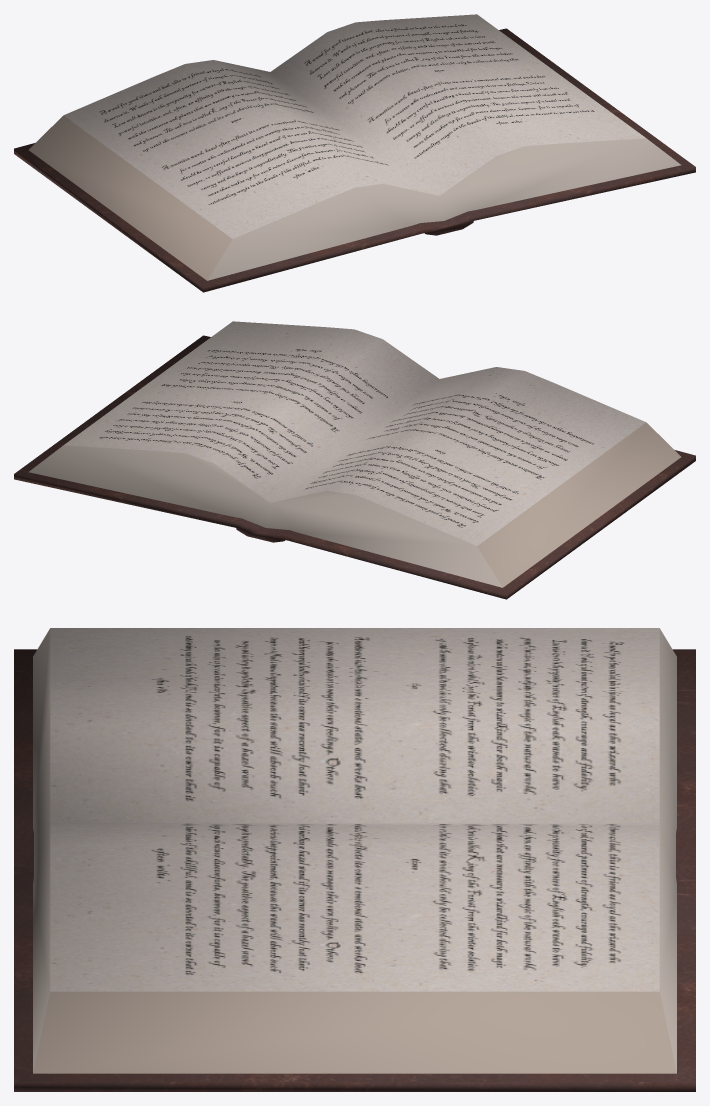
The model's file is openBook.glb.
3 views of the same model, one above another, from view 1: azimuth 30°, elevation 25°; view 2: azimuth 150°, elevation 25°; view 3: azimuth 270°, elevation 25° (orthographic). The views are drawn at different scales.
Visible parts, largest first — view 1: OpenBook; view 2: OpenBook; view 3: OpenBook.
Part boxes in pixels (box(x1,y1,x2,y2)): OpenBook: box(14, 14, 695, 292); OpenBook: box(14, 321, 695, 599); OpenBook: box(14, 628, 695, 1091).
Bounding box in the file's own units: 1.06 × 0.1191 × 0.7037.
3 materials, 3 textured.
